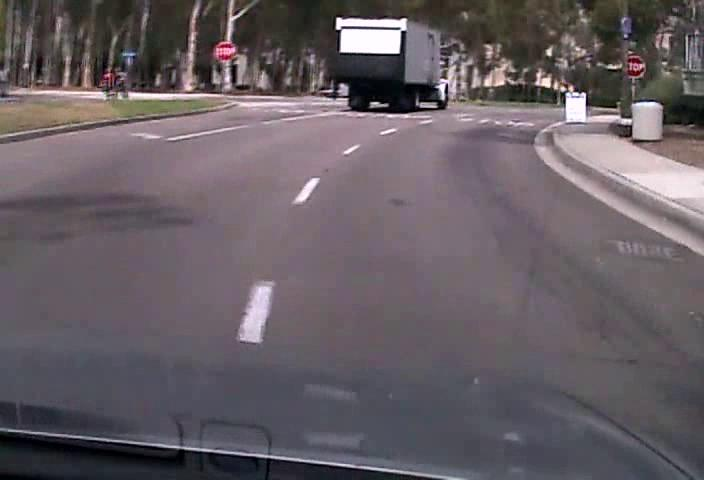stop: (214, 41, 235, 61)
